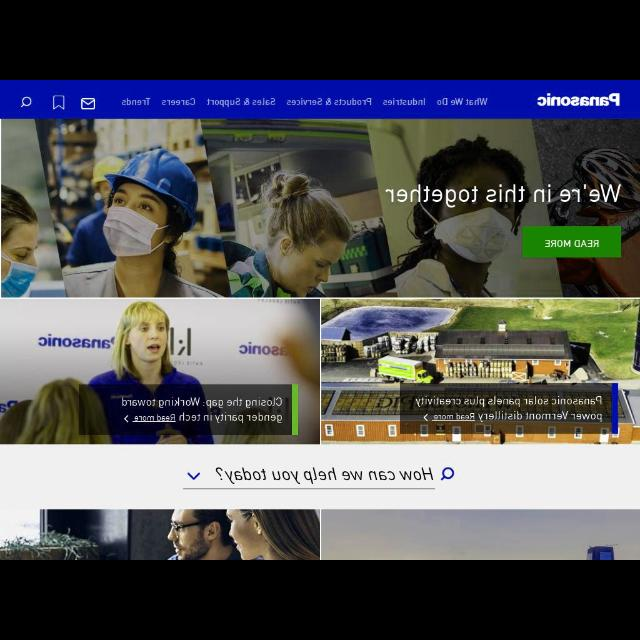backgroundimage: (1, 120, 638, 558)
icon: (440, 464, 456, 482), (80, 93, 96, 111), (50, 96, 66, 110), (20, 92, 36, 106), (184, 471, 202, 481)
image: (537, 90, 625, 108)
spinner: (180, 462, 436, 488)
text: (385, 180, 625, 207), (414, 392, 604, 424), (119, 394, 284, 426), (214, 467, 431, 481), (288, 94, 372, 108), (207, 95, 277, 106), (435, 96, 489, 108), (546, 238, 600, 250), (383, 95, 429, 106), (160, 95, 197, 105), (118, 96, 152, 106)
textbutton: (524, 228, 622, 255)
toolbar: (1, 82, 637, 118)
